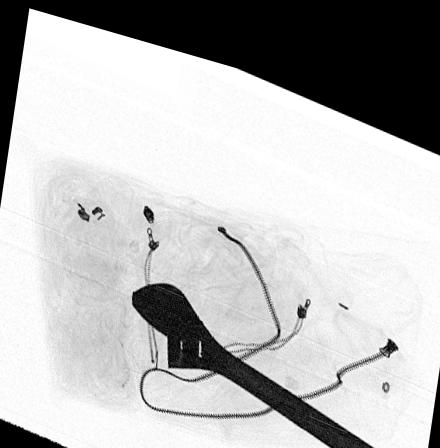Wrench: (132, 269, 409, 448)
